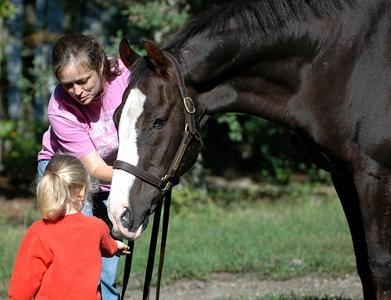person: (6, 152, 132, 300)
